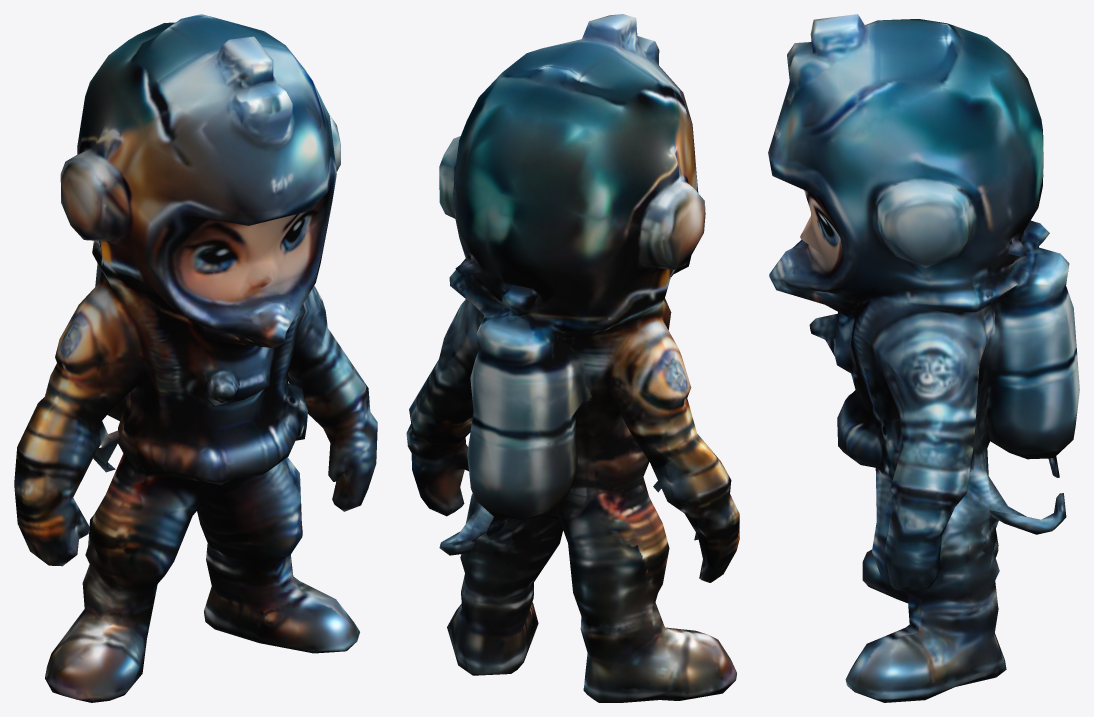
The model's file is player.glb.
The picture shows the model from 3 angles, left to right: view 1: azimuth 30°, elevation 25°; view 2: azimuth 150°, elevation 25°; view 3: azimuth 270°, elevation 25°; orthographic projection. The views are drawn at different scales.
Visible parts, largest first — view 1: ProcessedMeshNode_LOD1; view 2: ProcessedMeshNode_LOD1; view 3: ProcessedMeshNode_LOD1.
Boxes of the visible parts, x1=… form: ProcessedMeshNode_LOD1: x1=14, y1=14, x2=377, y2=702; ProcessedMeshNode_LOD1: x1=406, y1=14, x2=739, y2=702; ProcessedMeshNode_LOD1: x1=768, y1=14, x2=1079, y2=702.
Bounding box in the file's own units: 0.5356 × 0.9551 × 0.4313.
Materials: 1 (1 with a texture image).
